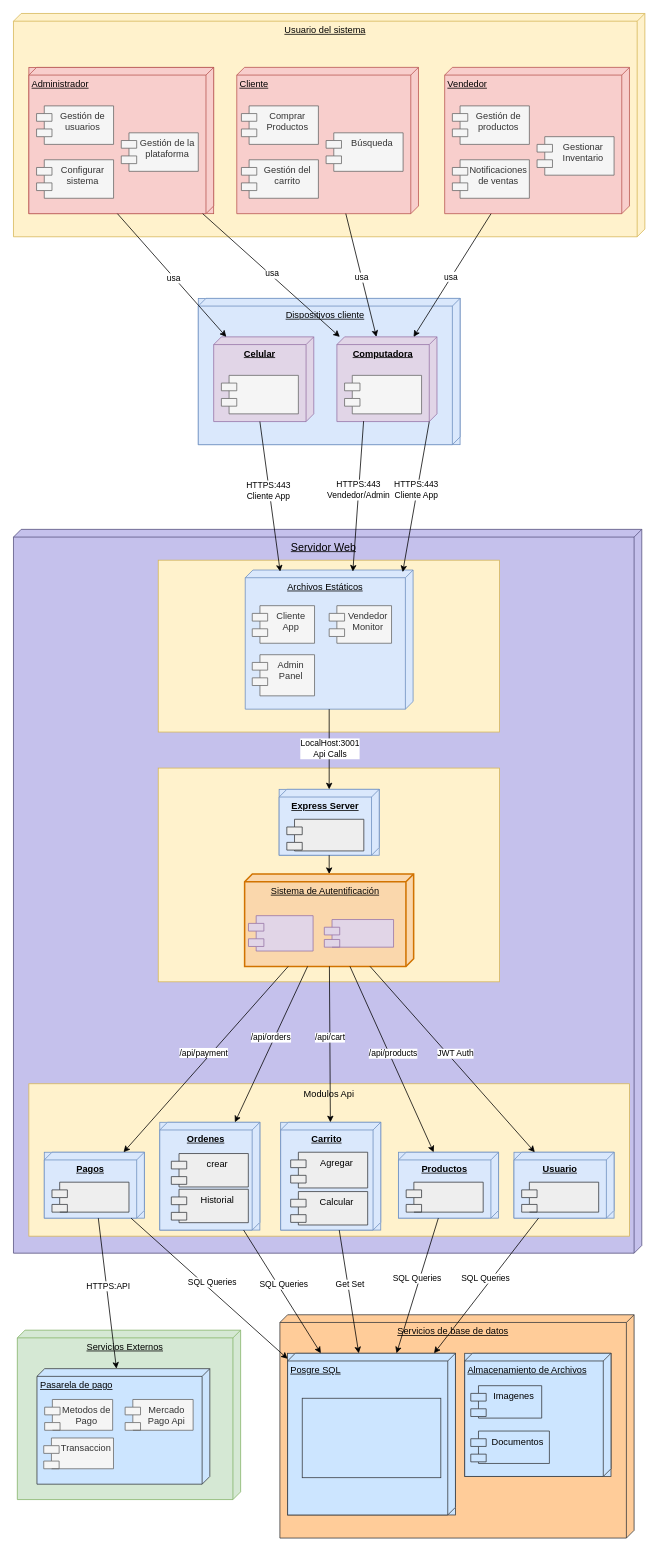
Image size: 658x1552. Some labels were removed from this diagram. The shapes that lost their labels are listed below. From the top down, each one's centre as x and y in pixels, then its label:
point (259, 394): Navegador Movil
point (383, 394): Navegador
point (325, 835): Middleware
point (280, 933): Iniciar Sesión
point (359, 933): Registrarse
point (90, 1196): Procesar
point (444, 1196): Busqueda
point (560, 1196): Perfil
point (371, 1437): Base de Datos : - users - products - orders - order_items - categories
